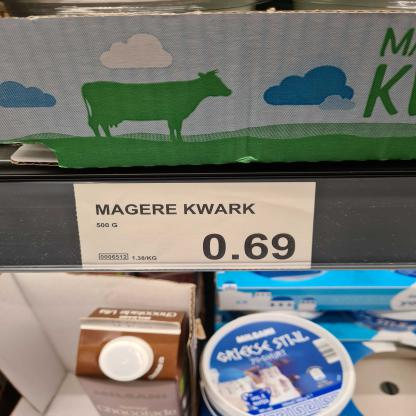prtg: (74, 183, 316, 271)
